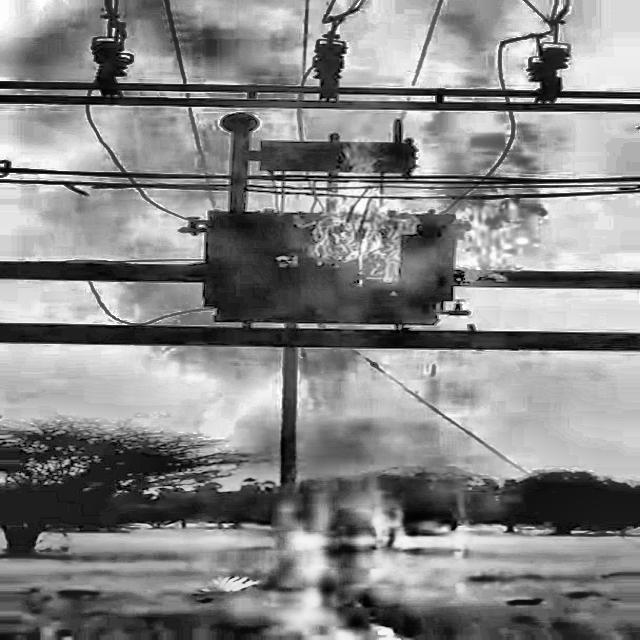Fire: (244, 103, 556, 307), (350, 590, 407, 640)
